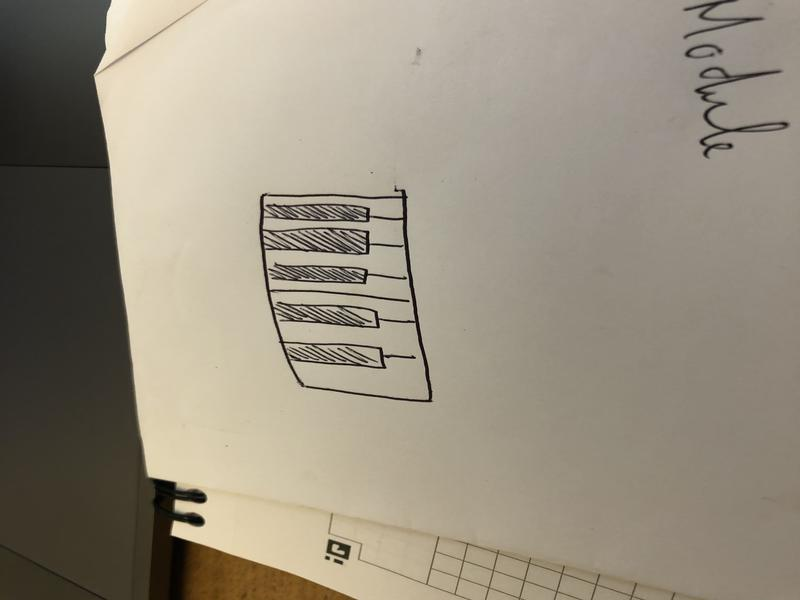piano: (250, 183, 449, 407)
